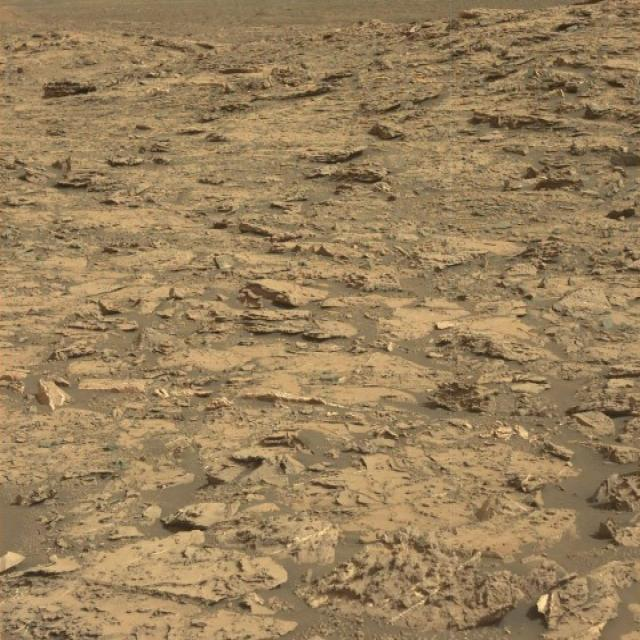rock: (40, 75, 94, 98)
